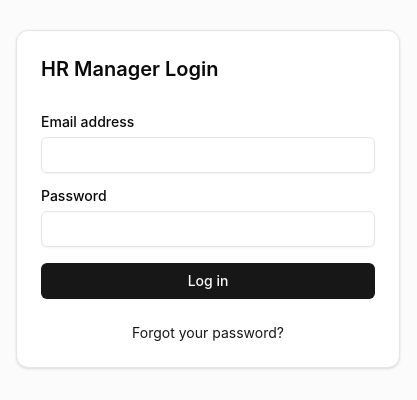
Test: LoginPage › shows an inline validation error only for the blank password field when email is filled in
Type "hr.manager@acme.test" into the field labelled "Email address" at {"x": 208, "y": 155}, box [41,137,375,173]
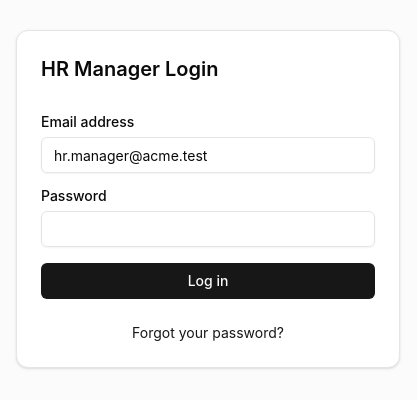
Click the button "Log in" at {"x": 208, "y": 281}, box [41,263,375,299]
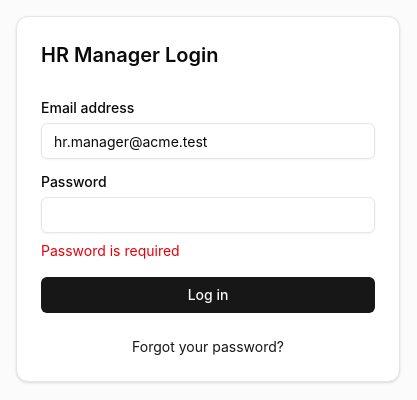
expect the text "Password is required" is shown: met, box [41,242,180,259]
